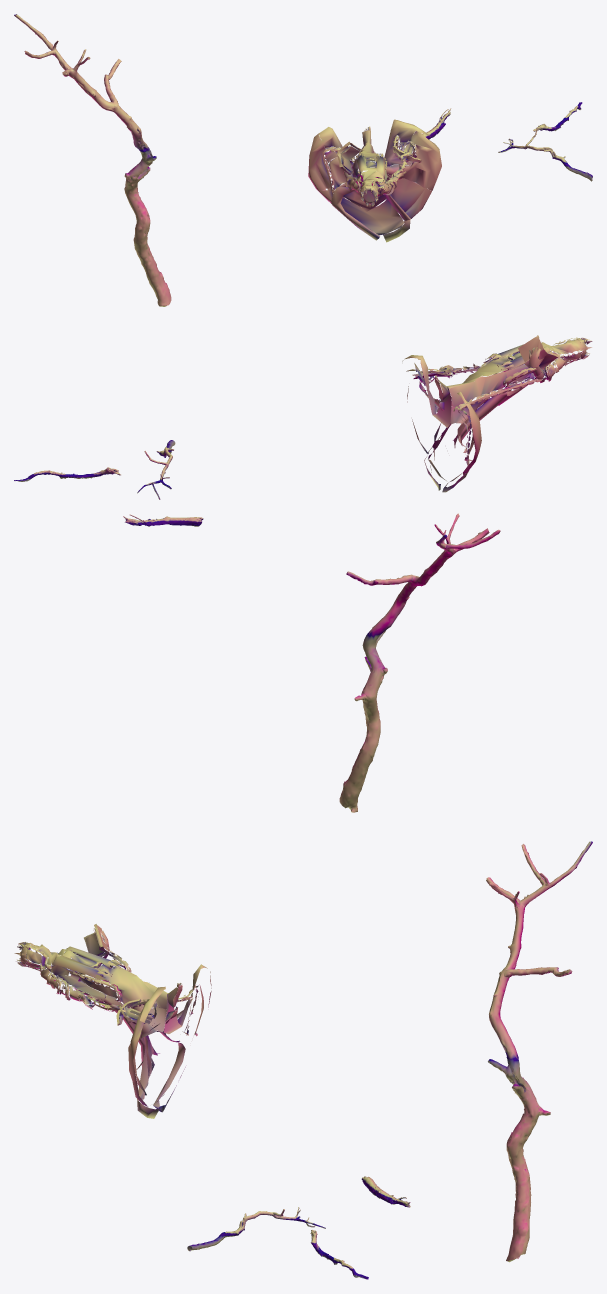
The model's file is props.glb.
3 renders of one model, top to bottom at view 1: azimuth 30°, elevation 25°; view 2: azimuth 150°, elevation 25°; view 3: azimuth 270°, elevation 25°, orthographic. The views are drawn at different scales.
Visible parts, largest first — view 1: Statue, Branches; view 2: Statue, Branches; view 3: Statue, Branches.
Part boxes in pixels (x1,y1,x2,y2): Statue: (308,119,441,242); Branches: (14,14,592,306); Statue: (402,335,592,492); Branches: (14,440,500,812); Statue: (14,924,211,1118); Branches: (187,841,592,1279).
Bounding box in the file's own units: 6.25 × 3.58 × 5.32.
